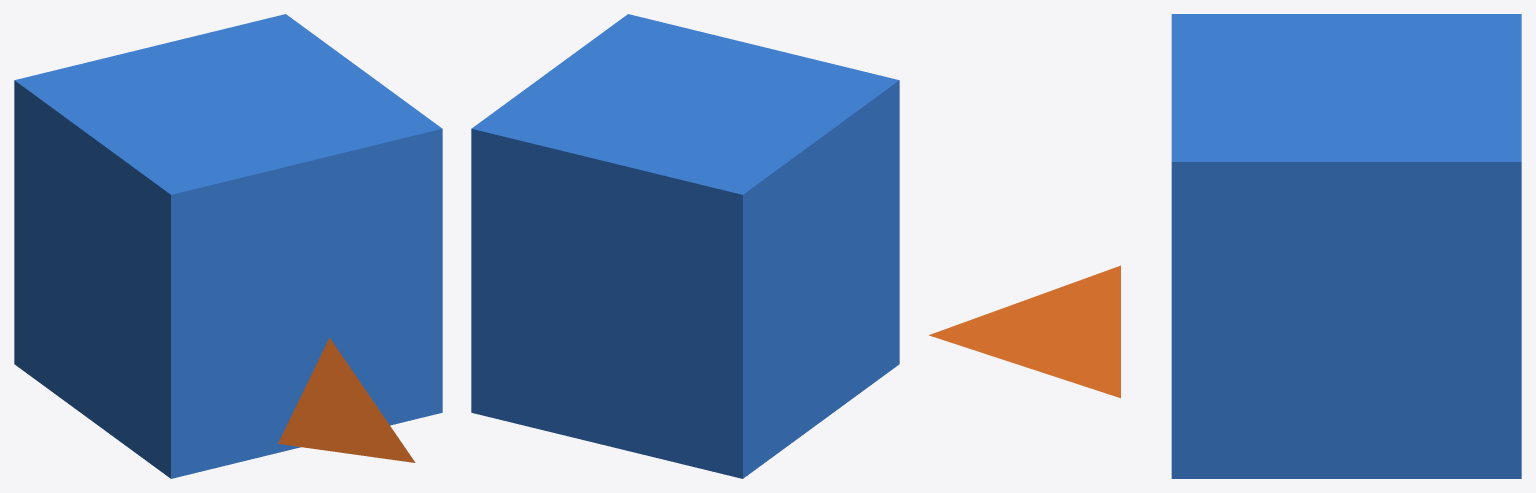
The model's file is PR3D_ImportProbe.fbx.
3 views of the same model, side by side, from view 1: azimuth 30°, elevation 25°; view 2: azimuth 150°, elevation 25°; view 3: azimuth 270°, elevation 25° (orthographic). The views are drawn at different scales.
Parts seen in each view (by area): view 1: Visual_MeterCube_1m, Visual_ForwardZ; view 2: Visual_MeterCube_1m; view 3: Visual_MeterCube_1m, Visual_ForwardZ.
Boxes of the visible parts, <box> form: Visual_MeterCube_1m: <box>14,14,442,478</box>; Visual_ForwardZ: <box>278,338,415,462</box>; Visual_MeterCube_1m: <box>471,14,899,478</box>; Visual_MeterCube_1m: <box>1171,14,1521,478</box>; Visual_ForwardZ: <box>929,265,1120,398</box>.
Bounding box in the file's own units: 1 × 1 × 1.7.
